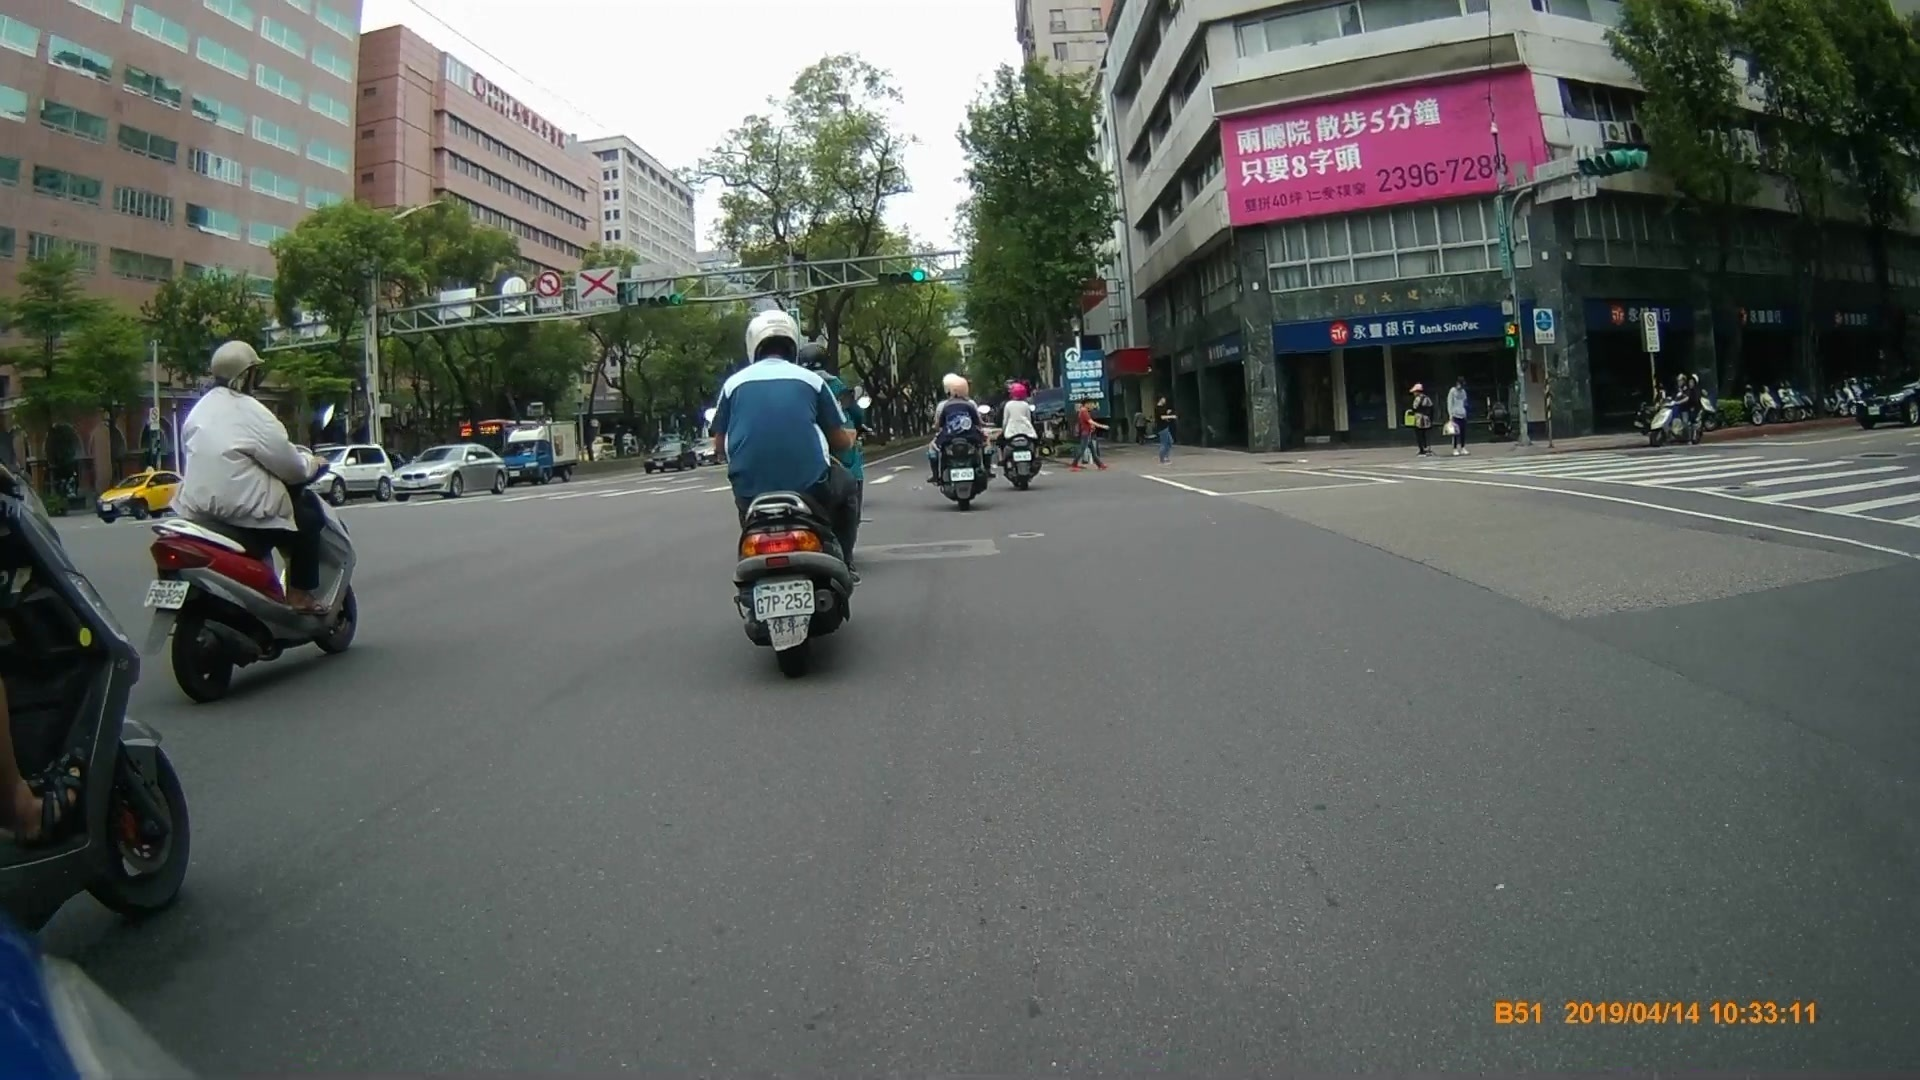License_plate: (751, 577, 815, 617), (142, 576, 190, 612), (949, 467, 977, 483)
